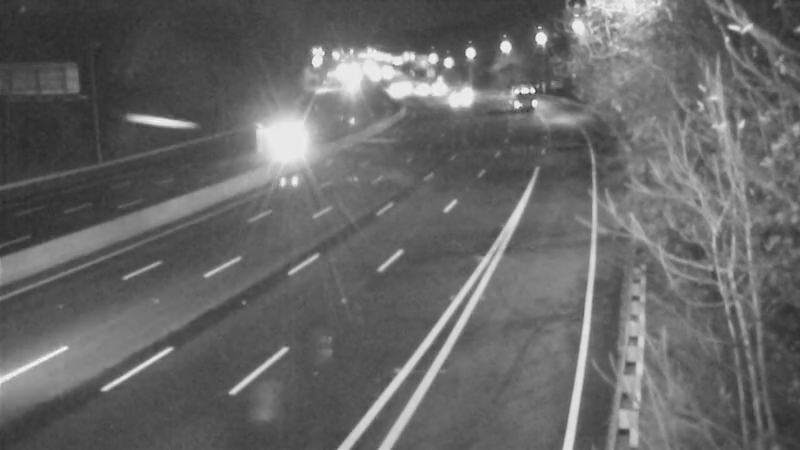vehicle: (501, 73, 551, 123), (428, 76, 478, 126), (258, 122, 308, 172)
